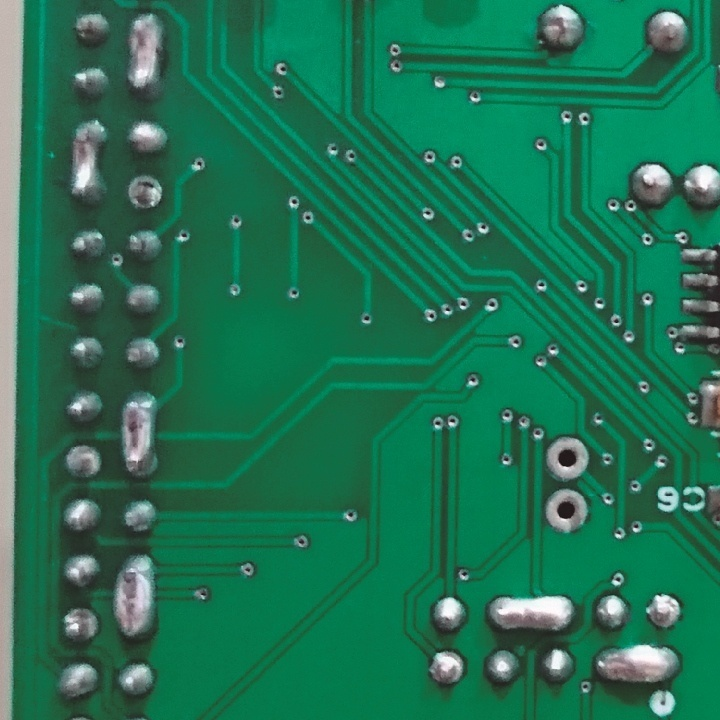F: (544, 434, 595, 483), (546, 486, 591, 534), (57, 605, 102, 646), (124, 175, 166, 214), (62, 442, 104, 480)
P: (113, 551, 160, 640), (116, 392, 163, 478), (595, 646, 685, 689), (64, 115, 107, 202), (123, 9, 164, 100), (488, 593, 574, 634)
